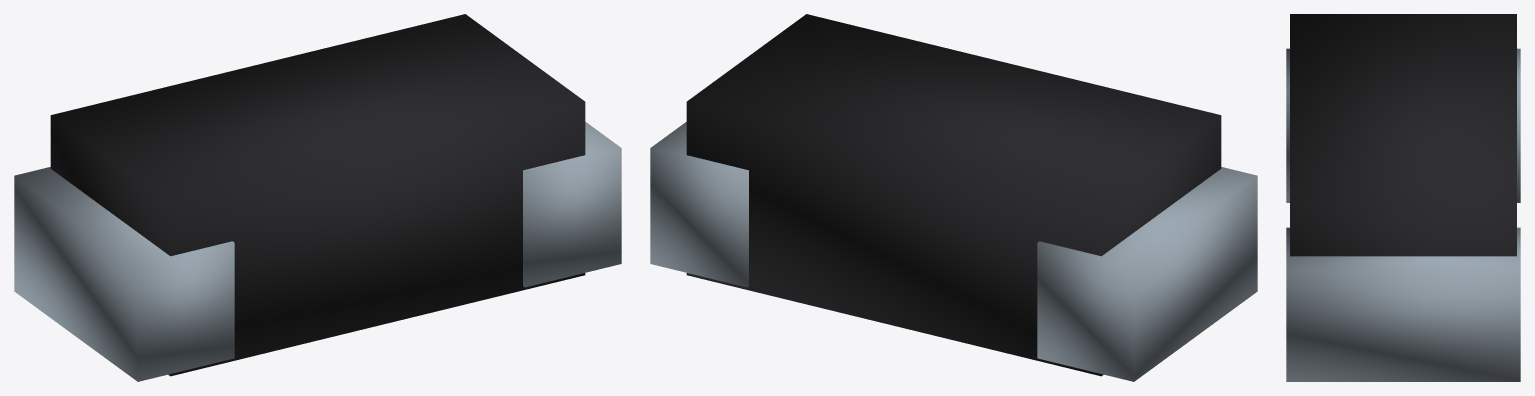
3 views of the same model, side by side, from view 1: azimuth 30°, elevation 25°; view 2: azimuth 150°, elevation 25°; view 3: azimuth 270°, elevation 25° (orthographic). The views are drawn at different scales.
Visible parts, largest first — view 1: Part_000, Part_001, Part_002; view 2: Part_000, Part_001, Part_002; view 3: Part_000, Part_002, Part_001.
Part boxes in pixels (left/top/right/bottom): Part_000: left=50, top=14, right=585, bottom=376; Part_001: left=14, top=167, right=234, bottom=381; Part_002: left=523, top=122, right=621, bottom=287; Part_000: left=686, top=14, right=1221, bottom=376; Part_001: left=1037, top=167, right=1257, bottom=381; Part_002: left=650, top=122, right=748, bottom=287; Part_000: left=1290, top=14, right=1516, bottom=256; Part_002: left=1286, top=227, right=1520, bottom=381; Part_001: left=1286, top=48, right=1520, bottom=202.
Bounding box in the file's own units: 0.0035 × 0.00155 × 0.0012.
